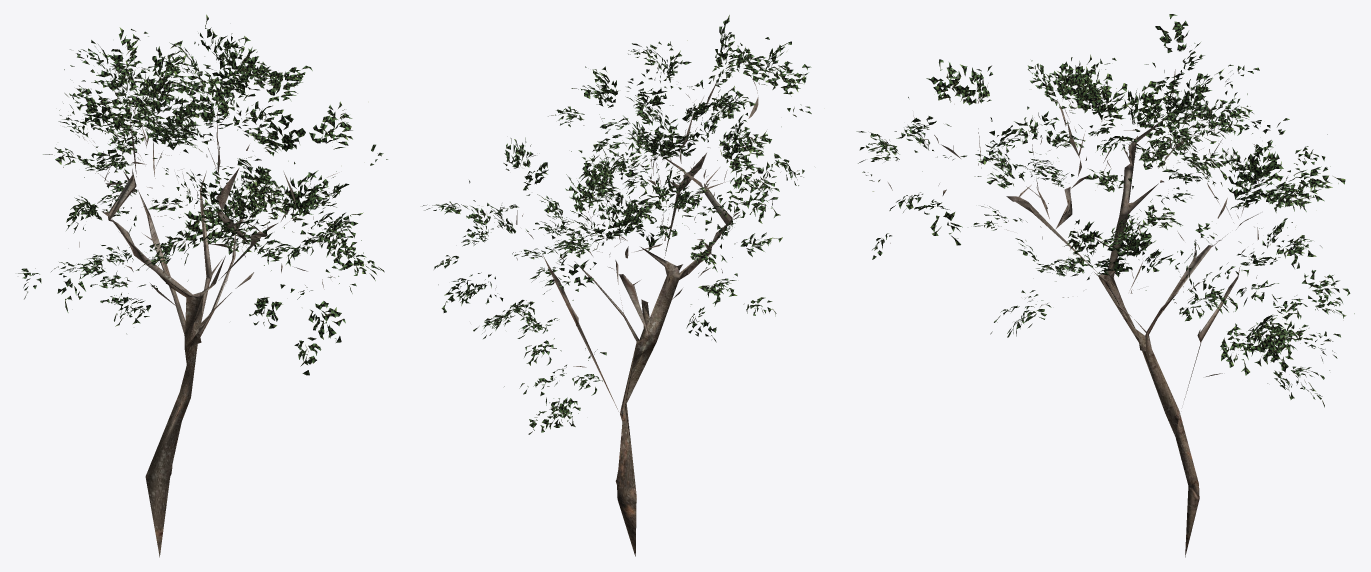
Rendered from pohon-kecil.glb.
3 renders of one model, left to right at view 1: azimuth 30°, elevation 25°; view 2: azimuth 150°, elevation 25°; view 3: azimuth 270°, elevation 25°, orthographic. The views are drawn at different scales.
Visible parts, largest first — view 1: tree_small_02_LOD0; view 2: tree_small_02_LOD0; view 3: tree_small_02_LOD0.
Boxes of the visible parts, x1,y1,x2,y2 form: tree_small_02_LOD0: (18,14,387,557); tree_small_02_LOD0: (422,15,811,556); tree_small_02_LOD0: (856,14,1354,557).
Bounding box in the file's own units: 2.87 × 4.53 × 4.06.
Materials: 3 (3 with a texture image).
